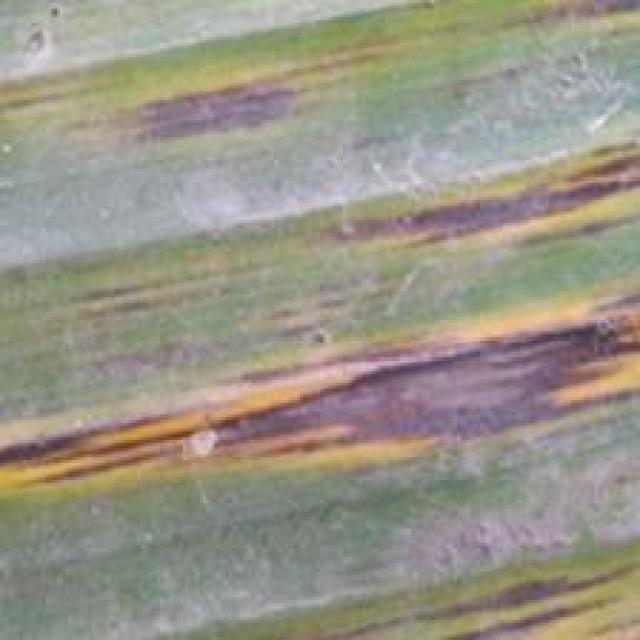Early_leaf_spot: (0, 310, 640, 486), (331, 128, 635, 242), (363, 537, 640, 640), (95, 44, 350, 140), (27, 270, 211, 332), (464, 0, 640, 63), (0, 0, 110, 93)
